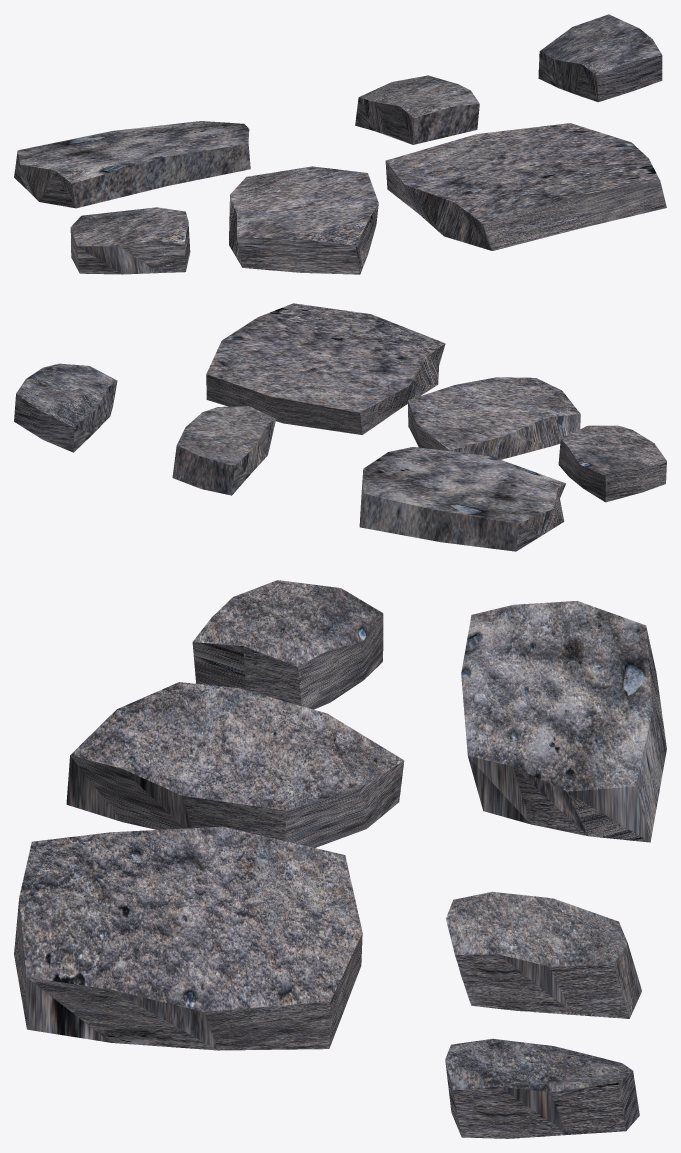
The model's file is Piedritas.fbx.
3 views of the same model, one above another, from view 1: azimuth 30°, elevation 25°; view 2: azimuth 150°, elevation 25°; view 3: azimuth 270°, elevation 25° (orthographic). The views are drawn at different scales.
Visible parts, largest first — view 1: Object043; view 2: Object043; view 3: Object043.
Part boxes in pixels (box(x1,y1,x2,y2)): Object043: box(14, 14, 666, 274); Object043: box(14, 303, 666, 551); Object043: box(14, 580, 666, 1138).
Bounding box in the file's own units: 0.4273 × 0.0416 × 0.2319.
